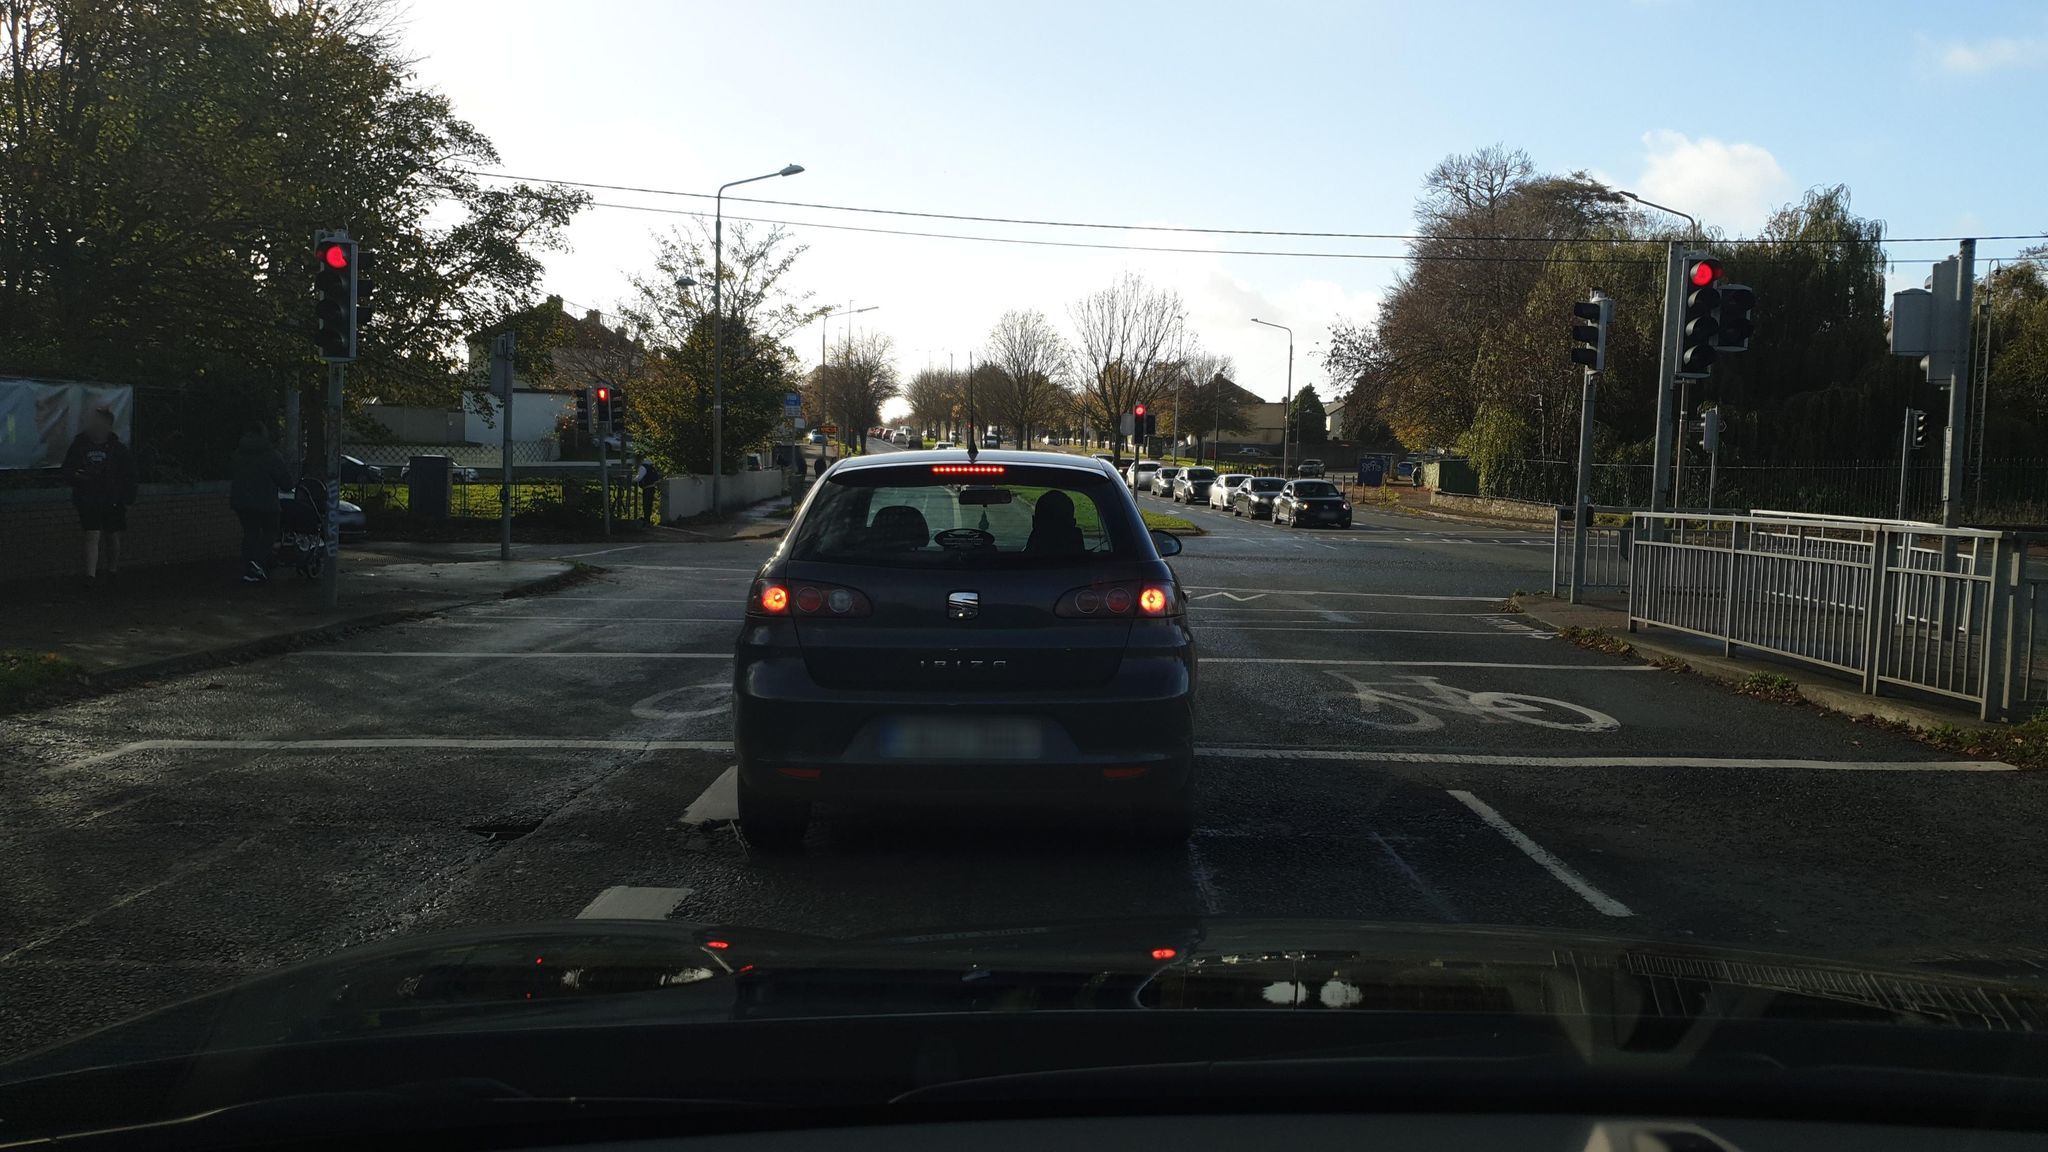vinyl banner: (1, 376, 153, 487)
